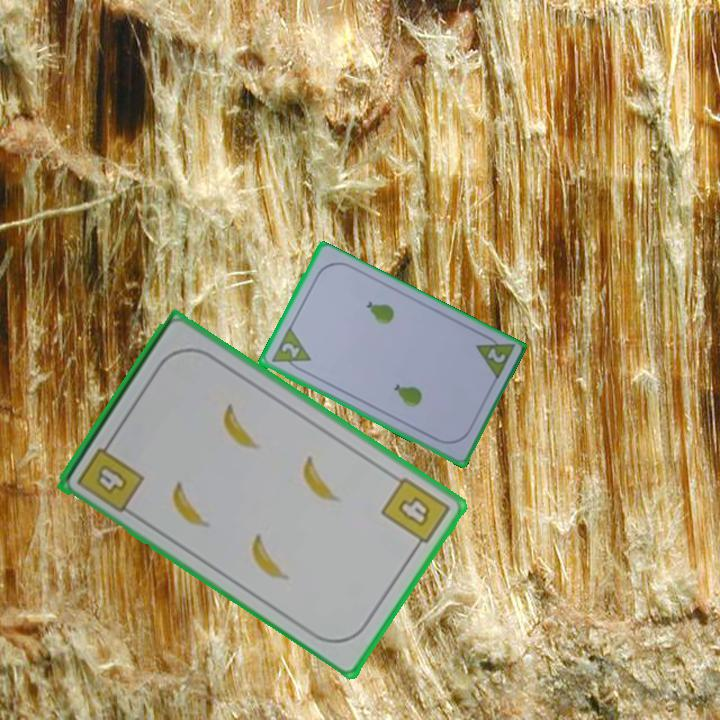2p: (472, 329, 517, 383), (267, 325, 314, 376)
4b: (377, 473, 453, 555), (73, 435, 147, 516)
